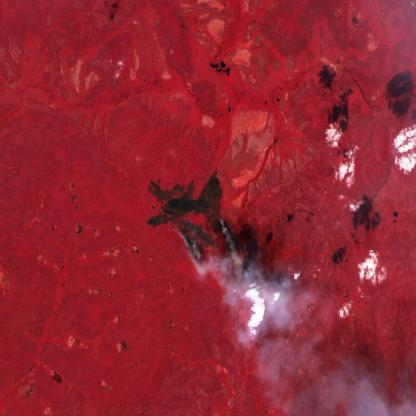fire: (167, 212, 247, 277)
